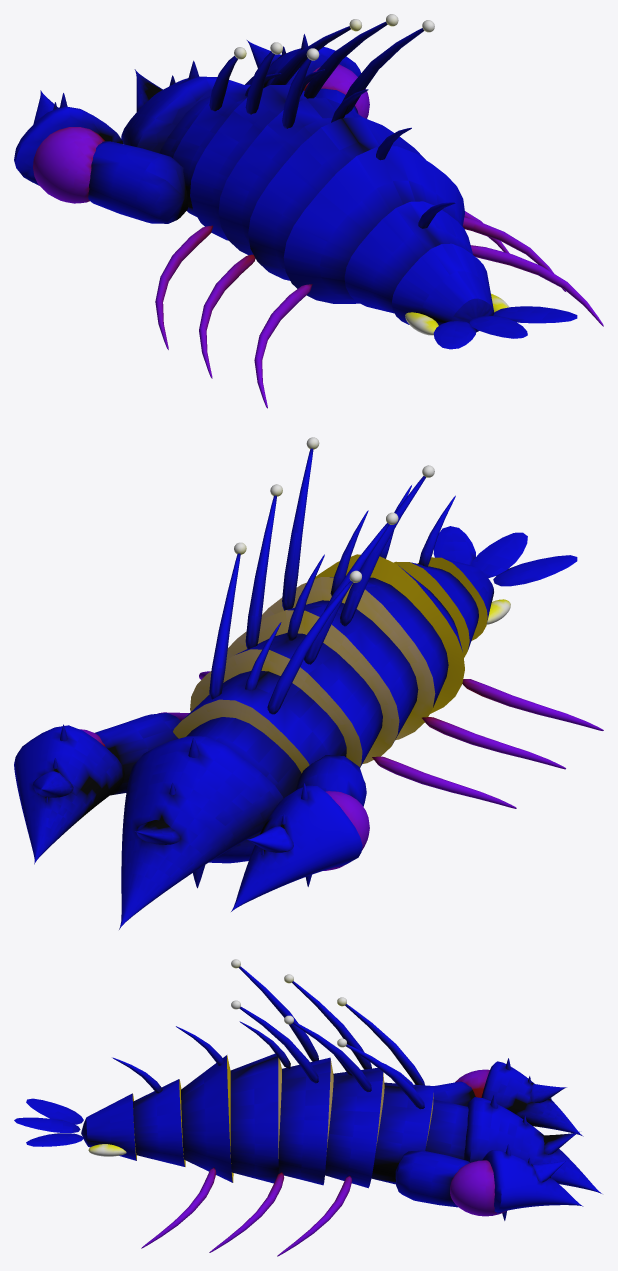
The model's file is craigon_synaptic_cruiser.fbx.
The picture shows the model from 3 angles, top to bottom: view 1: azimuth 30°, elevation 25°; view 2: azimuth 150°, elevation 25°; view 3: azimuth 270°, elevation 25°; orthographic projection. The views are drawn at different scales.
Parts seen in each view (by area): view 1: craigon_synaptic_cruiser; view 2: craigon_synaptic_cruiser; view 3: craigon_synaptic_cruiser.
Part boxes in pixels (x1,y1,x2,y2): craigon_synaptic_cruiser: (14,14,603,408); craigon_synaptic_cruiser: (14,437,603,929); craigon_synaptic_cruiser: (14,959,601,1256).
Bounding box in the file's own units: 1.2 × 0.9993 × 2.36.
